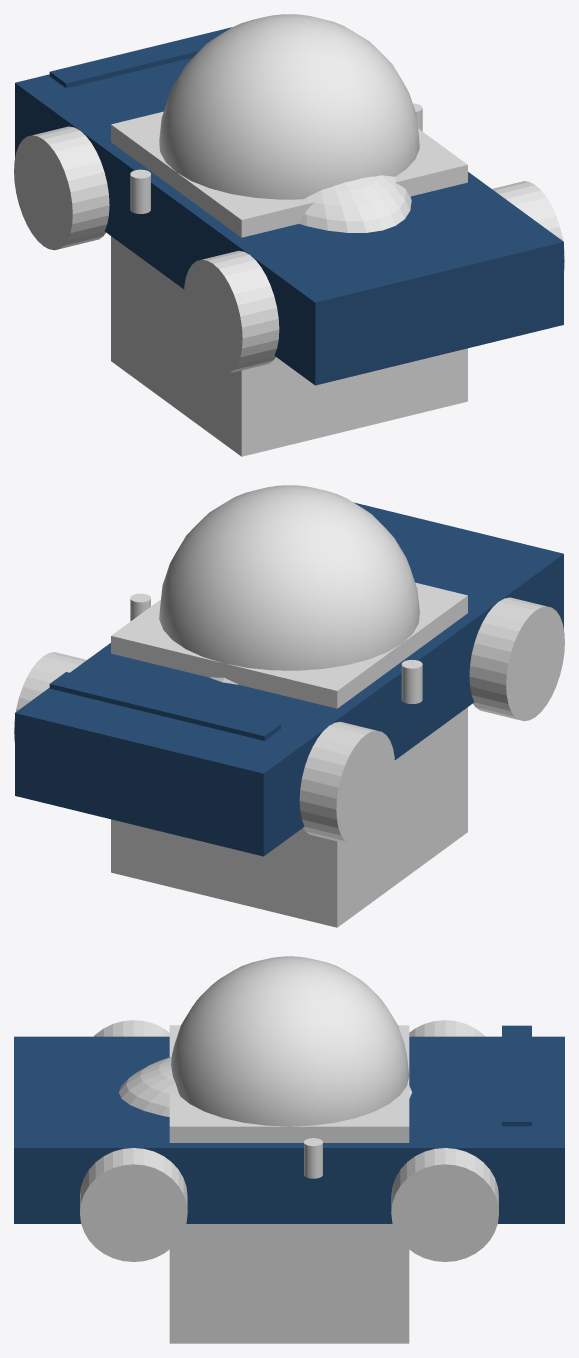
File: test3_refined_vehicle.glb
3 views of the same model, one above another, from view 1: azimuth 30°, elevation 25°; view 2: azimuth 150°, elevation 25°; view 3: azimuth 270°, elevation 25° (orthographic). The views are drawn at different scales.
Parts seen in each view (by area): view 1: Hypercar_Chassis, GenMesh_General, Cube, Wheel_1, Wheel_3, Hypercar_Canopy, Hypercar_Wing, Wheel_4, Mirror_L; view 2: Hypercar_Chassis, Cube, GenMesh_General, Wheel_3, Wheel_1, Hypercar_Wing, Wheel_2, Mirror_L; view 3: Hypercar_Chassis, Cube, GenMesh_General, Wheel_2, Wheel_4, Hypercar_Wing, Hypercar_Canopy, Wheel_1, Wheel_3, Mirror_R.
Part boxes in pixels (<box>): Hypercar_Chassis: <box>15,57,563,385</box>; GenMesh_General: <box>159,14,419,199</box>; Cube: <box>111,111,467,456</box>; Wheel_1: <box>14,126,109,250</box>; Wheel_3: <box>183,250,279,374</box>; Hypercar_Canopy: <box>299,175,411,232</box>; Hypercar_Wing: <box>49,27,231,88</box>; Wheel_4: <box>492,181,564,270</box>; Mirror_L: <box>130,169,150,213</box>; Hypercar_Chassis: <box>15,502,563,856</box>; Cube: <box>111,582,467,927</box>; GenMesh_General: <box>159,485,419,670</box>; Wheel_3: <box>469,597,564,721</box>; Wheel_1: <box>299,721,395,845</box>; Hypercar_Wing: <box>49,672,280,740</box>; Wheel_2: <box>14,652,86,741</box>; Mirror_L: <box>401,660,422,703</box>; Hypercar_Chassis: <box>14,1036,564,1223</box>; Cube: <box>169,1025,409,1343</box>; GenMesh_General: <box>171,956,409,1126</box>; Wheel_2: <box>391,1148,498,1261</box>; Wheel_4: <box>80,1148,187,1261</box>; Hypercar_Wing: <box>502,1025,531,1126</box>; Hypercar_Canopy: <box>119,1057,412,1116</box>; Wheel_1: <box>409,1020,484,1036</box>; Wheel_3: <box>94,1020,169,1036</box>; Mirror_R: <box>304,1138,322,1178</box>.
Size of the model in its own units: 2.85 by 3 by 4.6.
